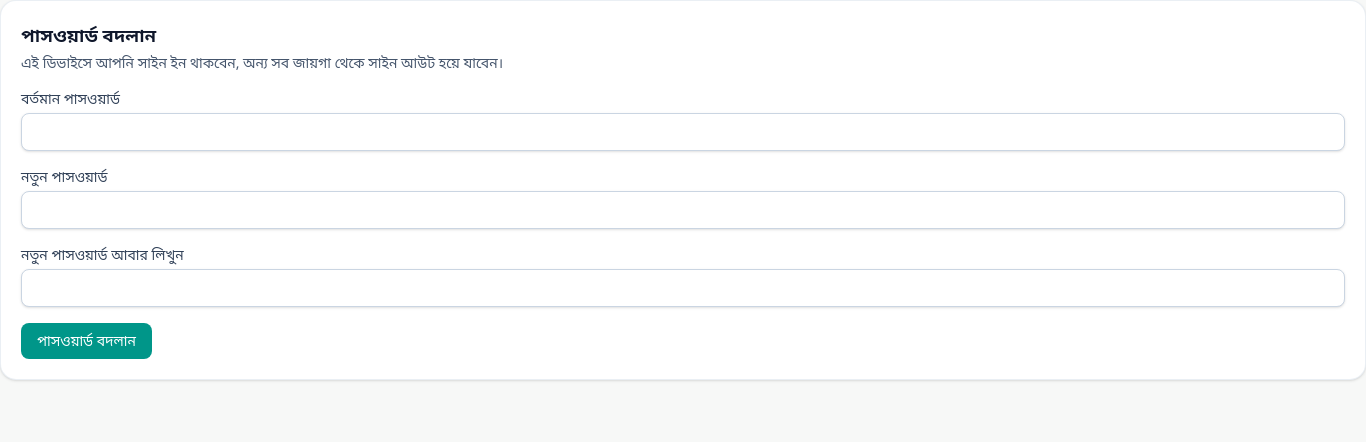
Test: ChangePasswordForm in Bangla › leaves checks to the page, and asks for the current password in Bangla
Click the button "পাসওয়ার্ড বদলান" at (86, 341), box 21,323 -> 152,359
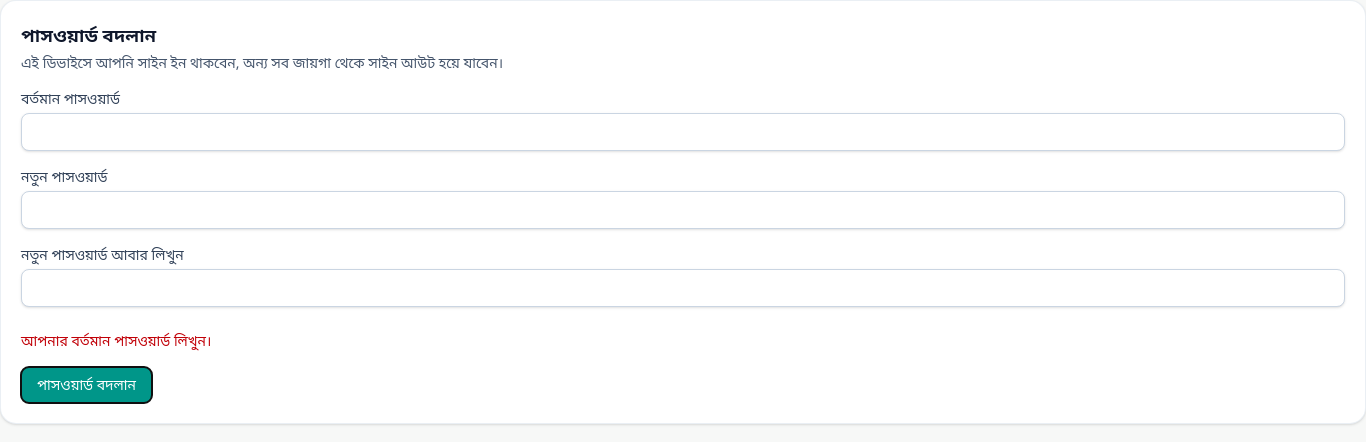
Result: the text "আপনার বর্তমান পাসওয়ার্ড লিখুন।" is shown at 21,331 -> 211,350
